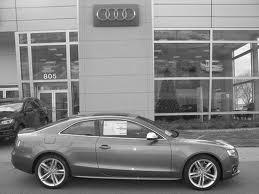car: (13, 113, 243, 191)
